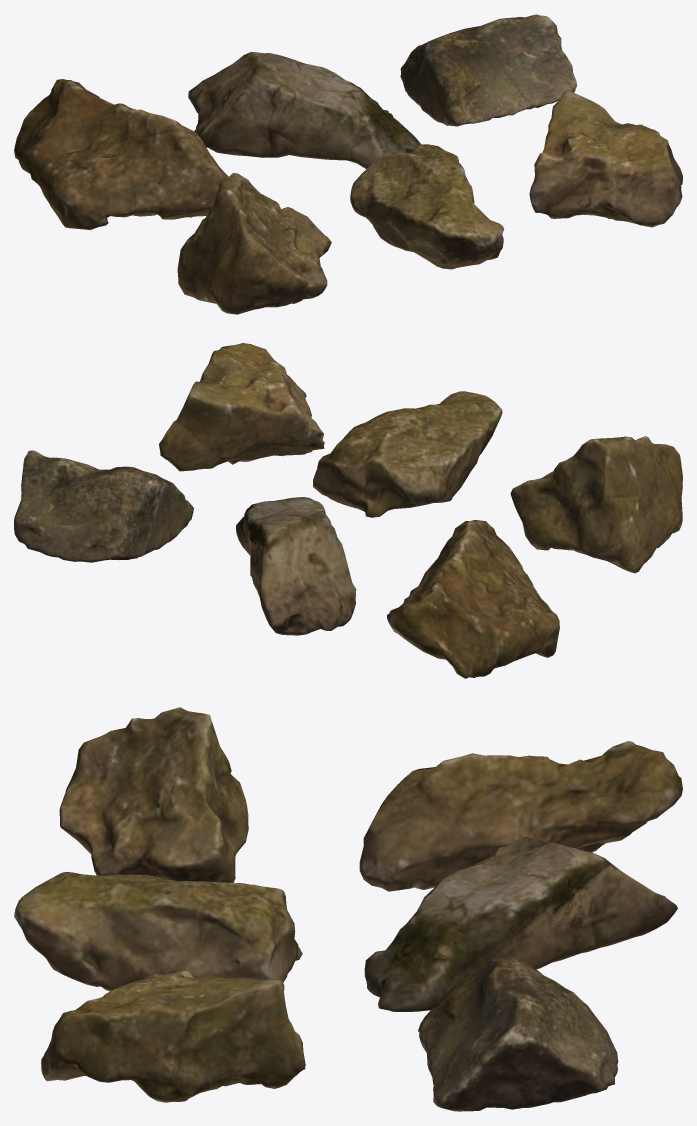
The model's file is rock_moss_set_01.gltf.
The picture shows the model from 3 angles, top to bottom: view 1: azimuth 30°, elevation 25°; view 2: azimuth 150°, elevation 25°; view 3: azimuth 270°, elevation 25°; orthographic projection. The views are drawn at different scales.
Parts seen in each view (by area): view 1: rock_moss_set_01_rock01, rock_moss_set_01_rock02, rock_moss_set_01_rock06, rock_moss_set_01_rock04, rock_moss_set_01_rock03, rock_moss_set_01_rock05; view 2: rock_moss_set_01_rock04, rock_moss_set_01_rock01, rock_moss_set_01_rock05, rock_moss_set_01_rock03, rock_moss_set_01_rock06, rock_moss_set_01_rock02; view 3: rock_moss_set_01_rock01, rock_moss_set_01_rock02, rock_moss_set_01_rock05, rock_moss_set_01_rock04, rock_moss_set_01_rock06, rock_moss_set_01_rock03.
Boxes of the visible parts, box(x1,y1,x2,y2) form: rock_moss_set_01_rock01: box(14, 79, 228, 229); rock_moss_set_01_rock02: box(188, 51, 421, 169); rock_moss_set_01_rock06: box(529, 90, 682, 227); rock_moss_set_01_rock04: box(177, 172, 331, 314); rock_moss_set_01_rock03: box(400, 14, 576, 126); rock_moss_set_01_rock05: box(350, 144, 504, 269); rock_moss_set_01_rock04: box(510, 436, 682, 573); rock_moss_set_01_rock01: box(387, 520, 559, 678); rock_moss_set_01_rock05: box(313, 391, 502, 517); rock_moss_set_01_rock03: box(14, 450, 193, 562); rock_moss_set_01_rock06: box(159, 343, 324, 471); rock_moss_set_01_rock02: box(236, 497, 356, 635); rock_moss_set_01_rock01: box(359, 741, 682, 891); rock_moss_set_01_rock02: box(364, 836, 677, 1011); rock_moss_set_01_rock05: box(14, 871, 302, 991); rock_moss_set_01_rock04: box(59, 707, 248, 882); rock_moss_set_01_rock06: box(41, 971, 305, 1102); rock_moss_set_01_rock03: box(418, 956, 618, 1111).
Bounding box in the file's own units: 8 × 1.77 × 6.94.
Materials: 1 (1 with a texture image).
